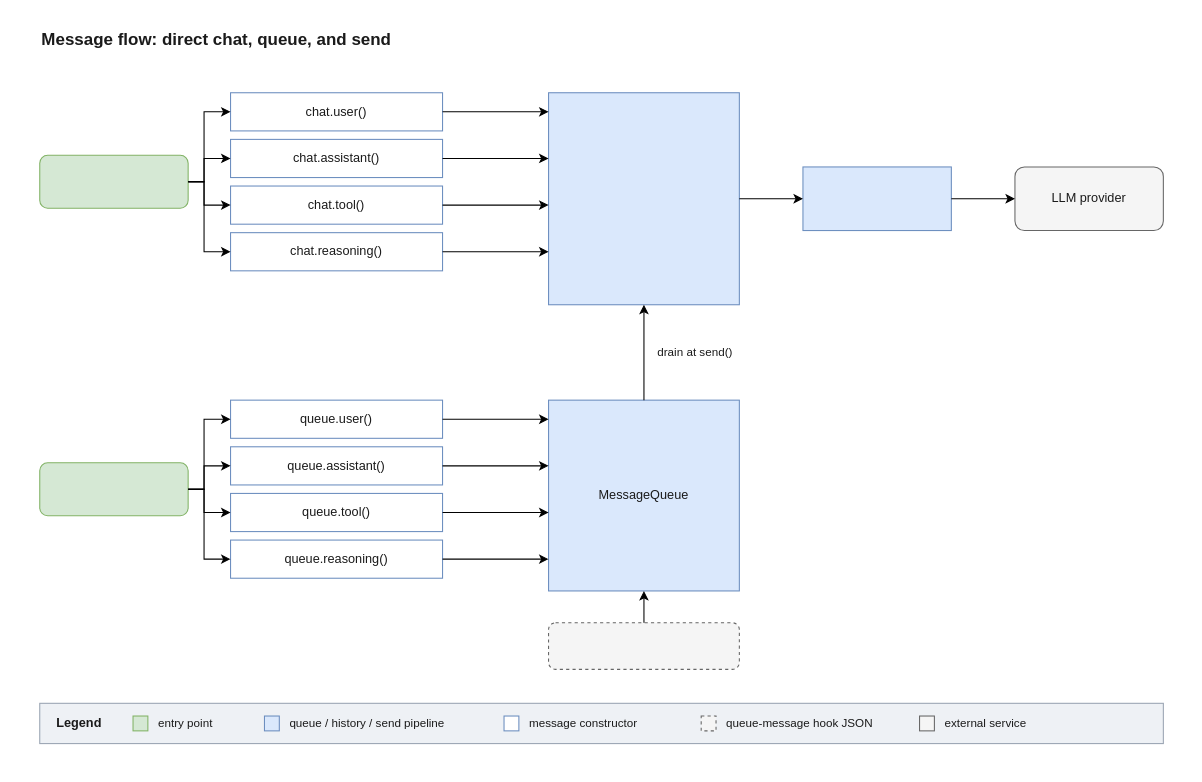
Some shapes in this 1202 by 782 pixel diagram are drawn without their labels. The shapes that lost their labels are listed below. From the top down, each one's box as (x1, y1, x2, y2) in pixels, then its label:
(39, 154, 188, 208): Chat
(547, 92, 739, 305): Chat history
(802, 166, 951, 231): service.send()
(39, 462, 188, 516): Queue
(547, 622, 739, 669): *.json (queue-message)
